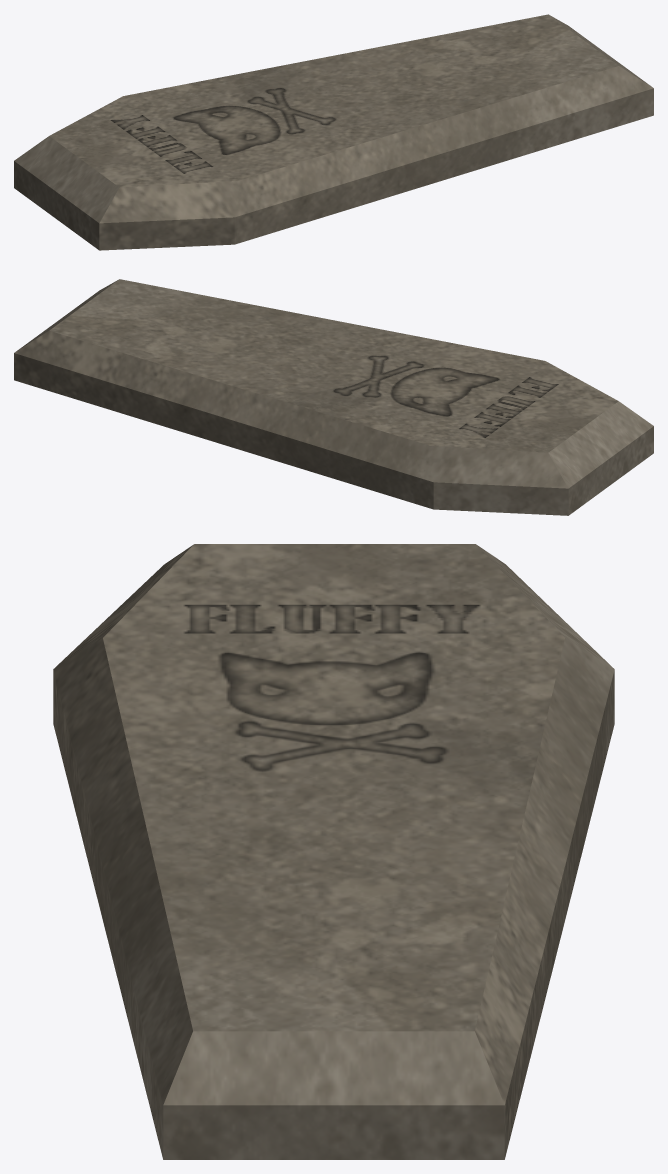
The model's file is catcoffinLID_FBX.fbx.
The picture shows the model from 3 angles, top to bottom: view 1: azimuth 30°, elevation 25°; view 2: azimuth 150°, elevation 25°; view 3: azimuth 270°, elevation 25°; orthographic projection. The views are drawn at different scales.
Visible parts, largest first — view 1: polySurface3; view 2: polySurface3; view 3: polySurface3.
Part boxes in pixels (bbox=[...]): polySurface3: bbox=[14, 14, 653, 250]; polySurface3: bbox=[14, 279, 653, 515]; polySurface3: bbox=[53, 544, 614, 1159].
Bounding box in the file's own units: 20.84 × 1.83 × 9.14.
